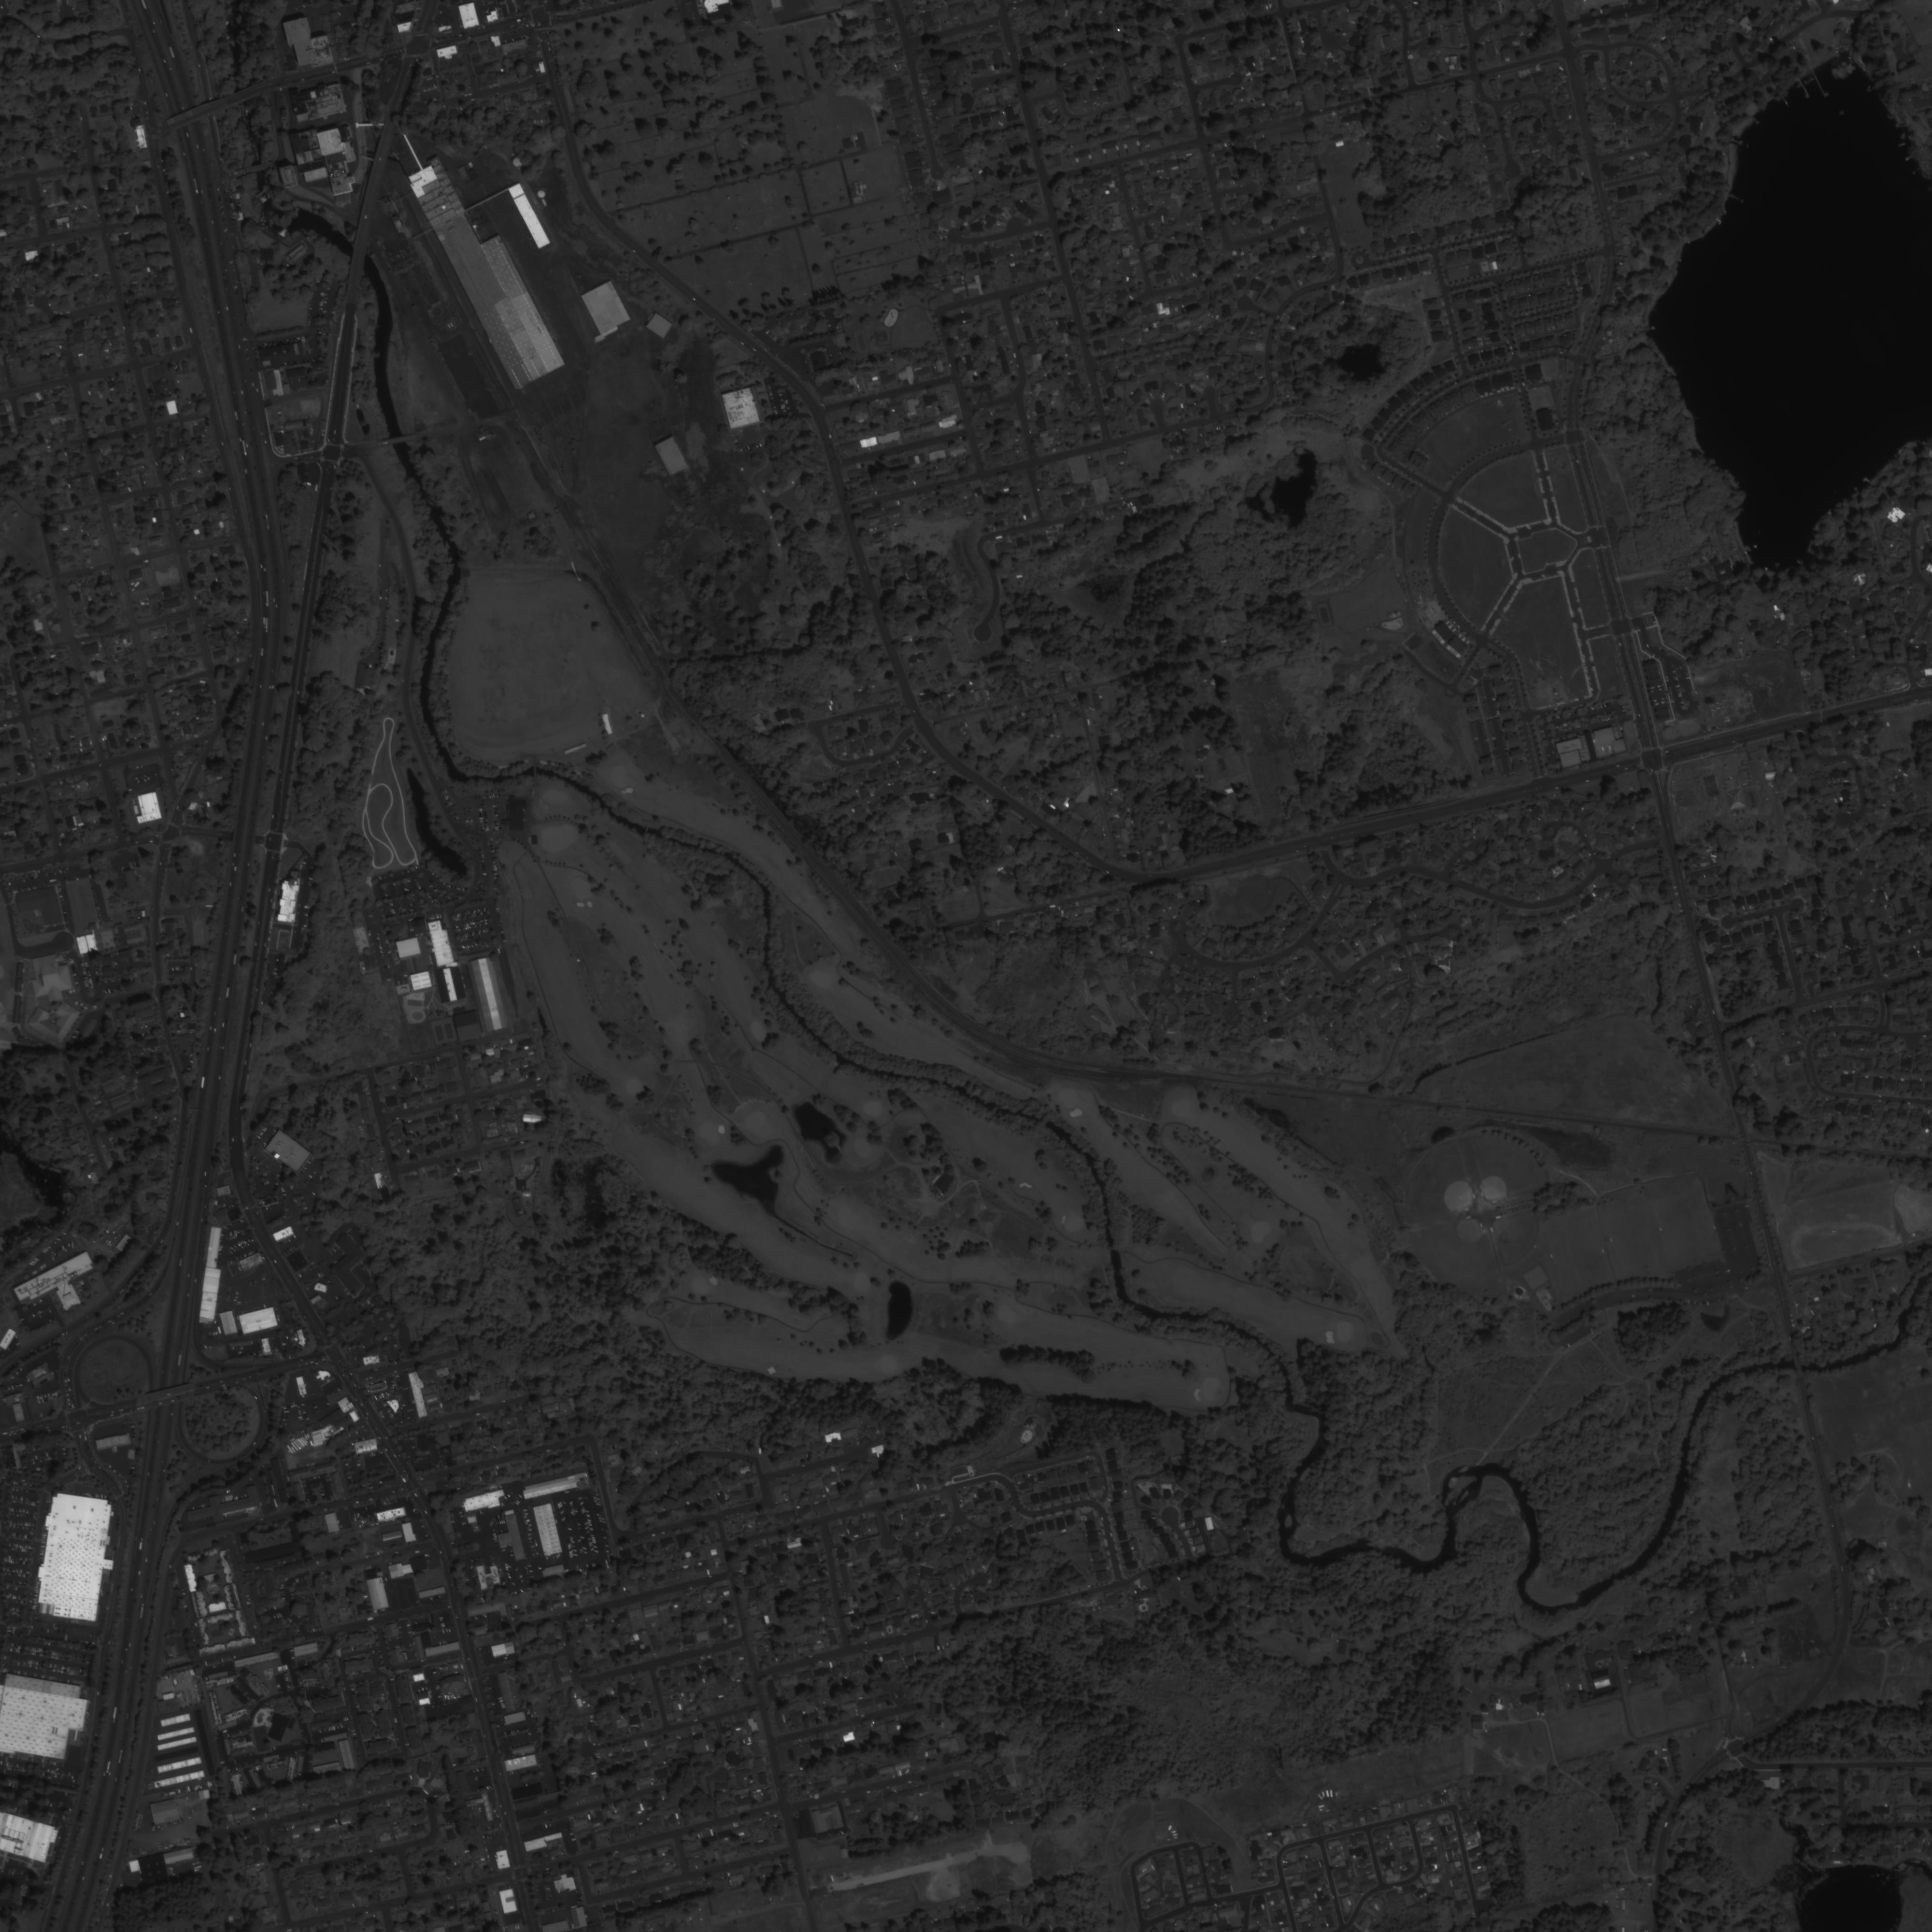harbor: (1806, 65, 1835, 101), (1792, 76, 1815, 101)
